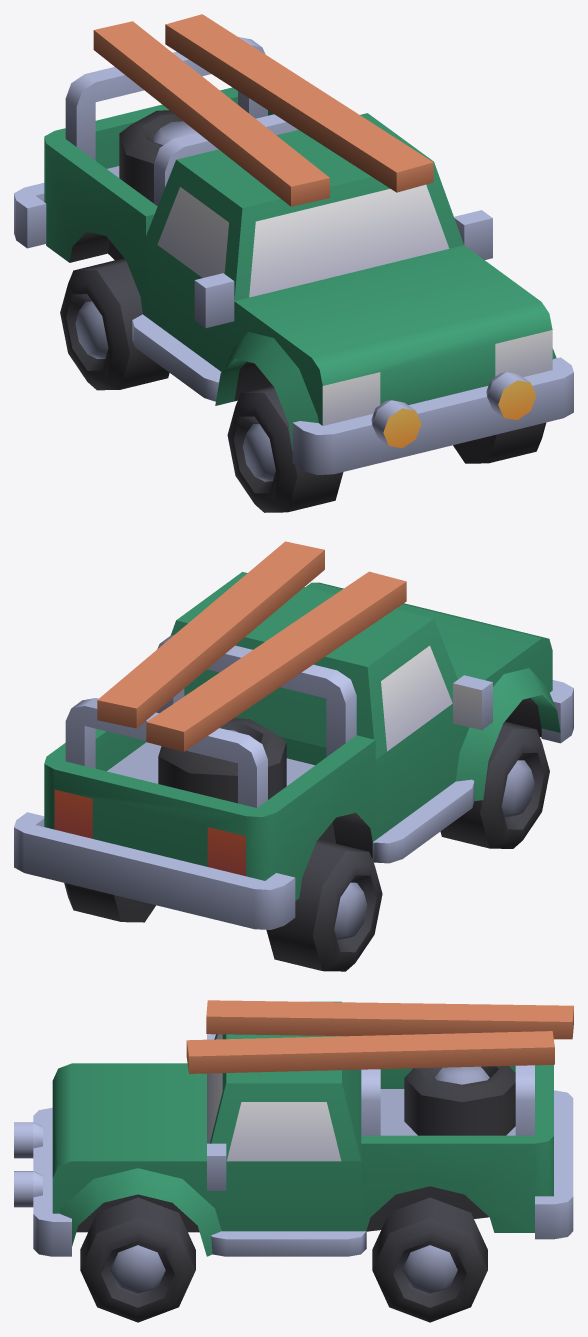
File: vehicle-truck-green.fbx
The picture shows the model from 3 angles, top to bottom: view 1: azimuth 30°, elevation 25°; view 2: azimuth 150°, elevation 25°; view 3: azimuth 270°, elevation 25°; orthographic projection. The views are drawn at different scales.
Visible parts, largest first — view 1: body, wheel-back-right, wheel-front-right, wheel-front-left; view 2: body, wheel-back-right, wheel-front-right, wheel-back-left; view 3: body, wheel-back-left, wheel-front-left.
Part boxes in pixels (bbox=[...]): body: bbox=[14, 14, 573, 475]; wheel-back-right: bbox=[60, 258, 169, 390]; wheel-front-right: bbox=[227, 385, 343, 512]; wheel-front-left: bbox=[453, 422, 546, 463]; body: bbox=[14, 541, 573, 929]; wheel-back-right: bbox=[266, 840, 382, 971]; wheel-front-right: bbox=[440, 721, 549, 848]; wheel-back-left: bbox=[64, 883, 155, 922]; body: bbox=[14, 1000, 573, 1256]; wheel-back-left: bbox=[372, 1197, 487, 1322]; wheel-front-left: bbox=[80, 1197, 195, 1322].
Size of the model in its own units: 1.5 by 1.4 by 2.9.
